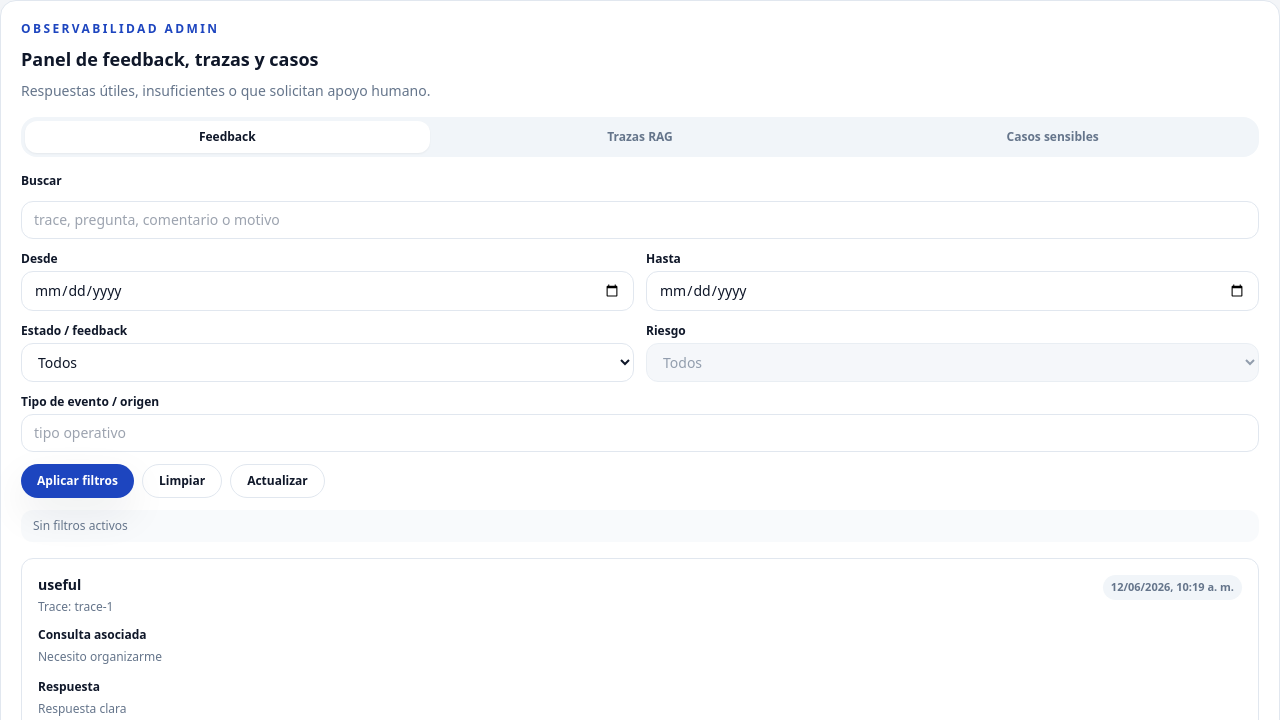
Test case: AdminObservabilityPanel › aplica búsqueda y muestra casos
The width and height of the screenshot is (1280, 720).
Expected: the text "Necesito organizarme" is shown, [38,648,162,665]
Type "apoyo" into the field with placeholder "trace, pregunta, comentario o motivo" at (640,220), box [21,201,1259,239]
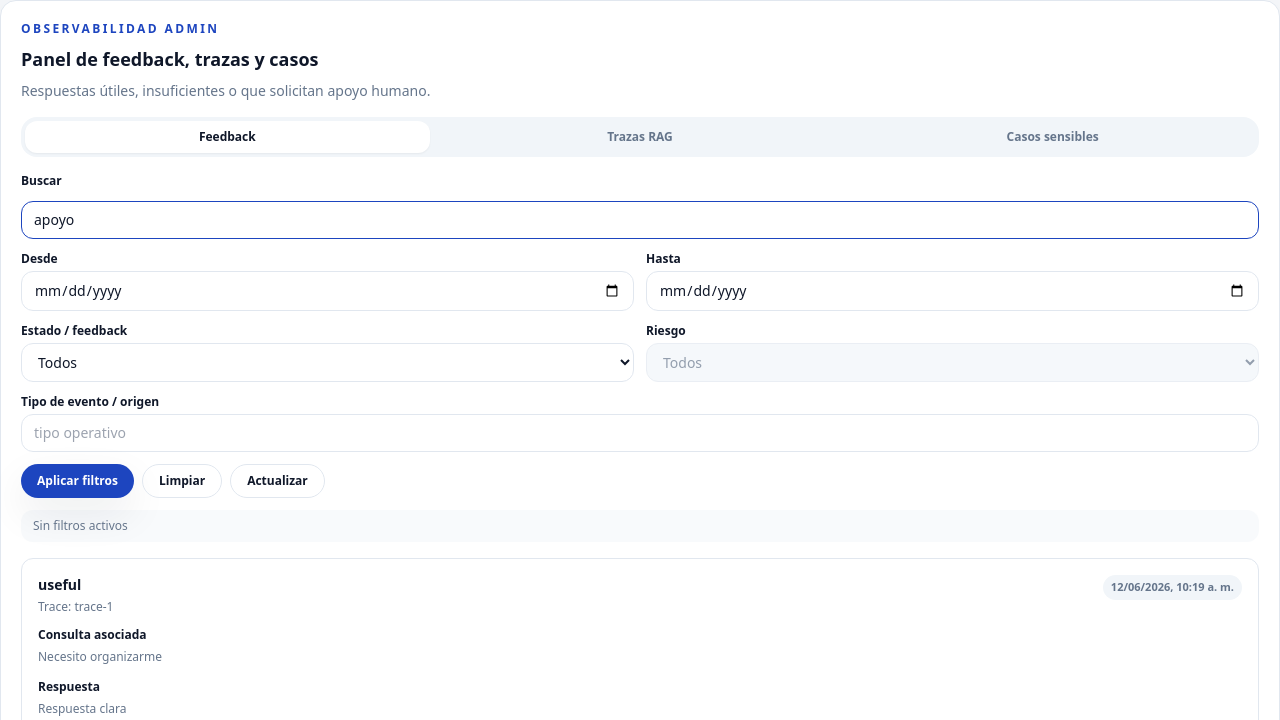
Click the button "Aplicar filtros" at (78,481), box [21,464,134,498]
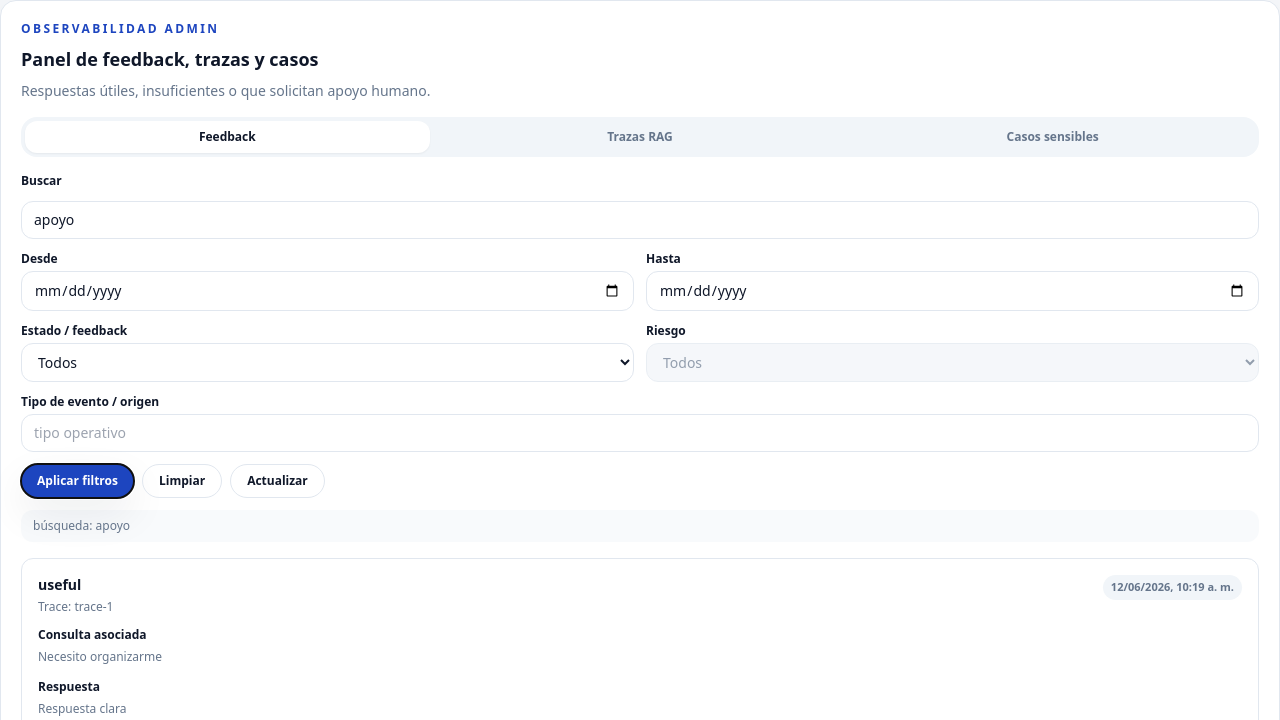
Click the tab "Casos sensibles" at (1053,137), box [850,121,1255,153]
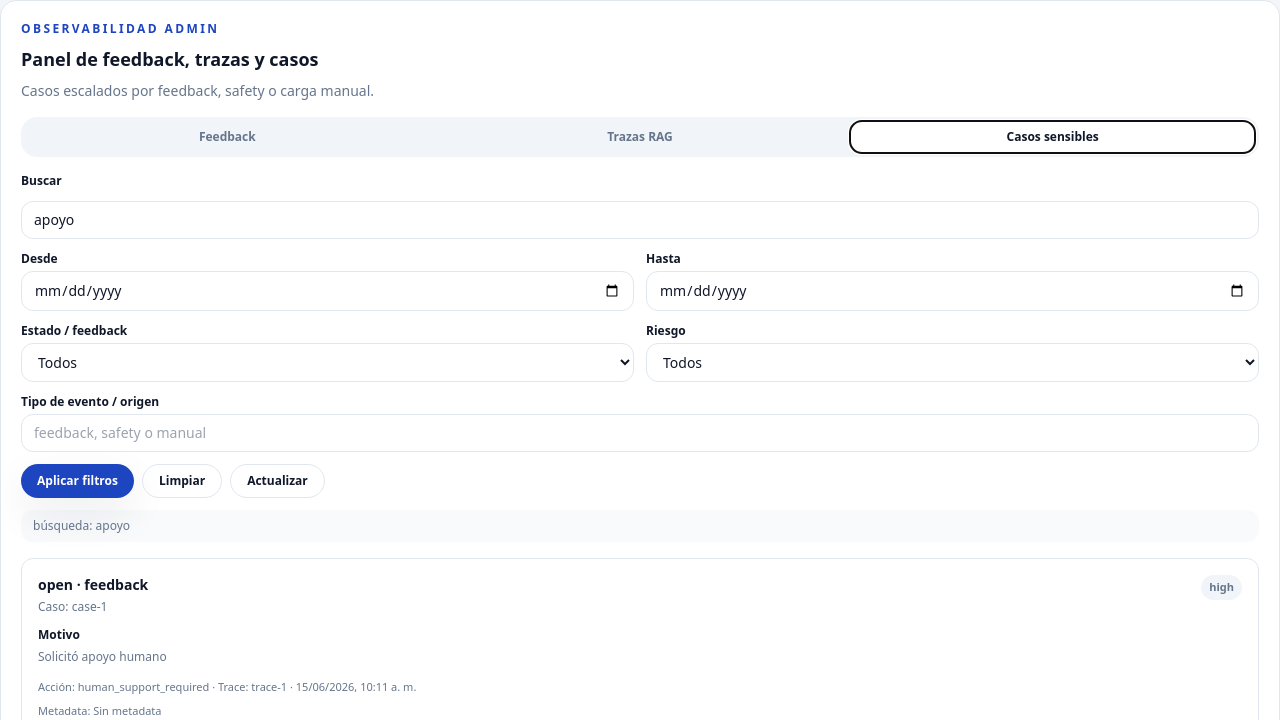
Now the text "Solicitó apoyo humano" is shown, box [38,648,167,665]
Now the text "Caso: case-1" is shown, box [38,598,107,615]
